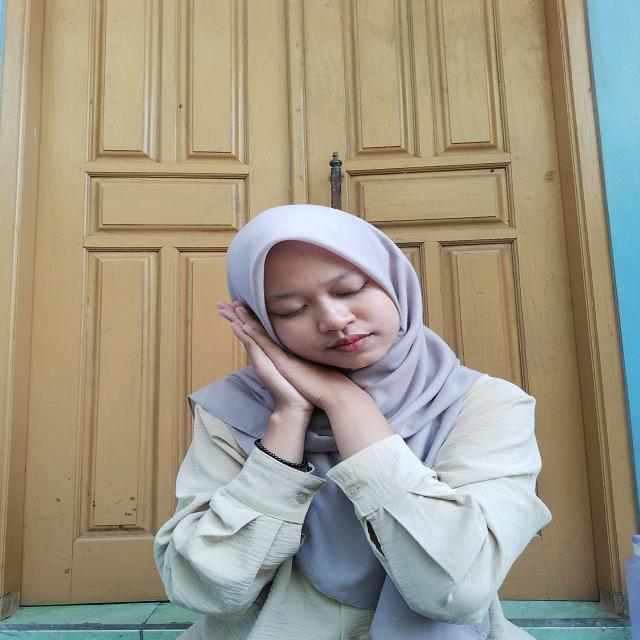tidur: (192, 290, 395, 444)
